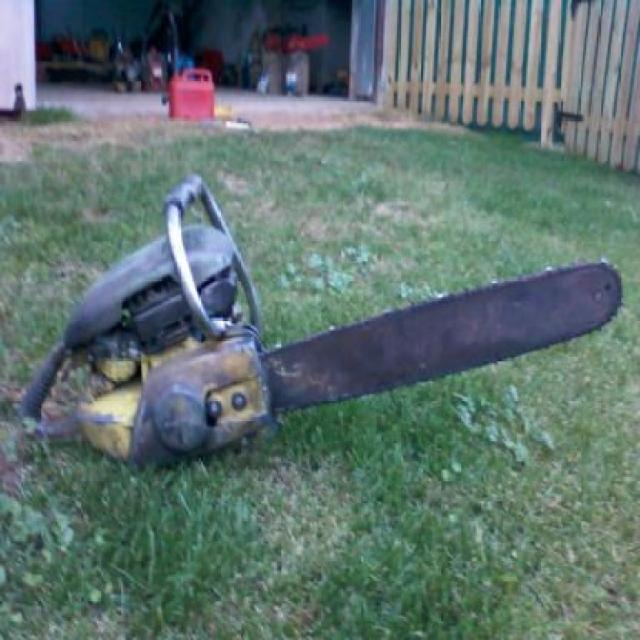Chainsaw: (11, 178, 624, 480)
